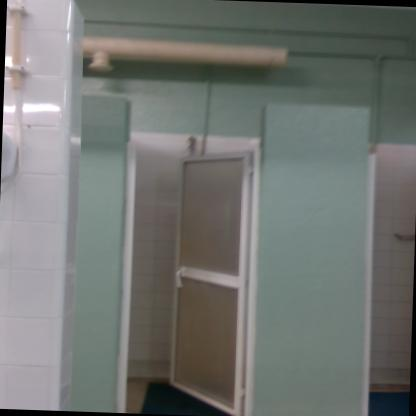open: (78, 106, 282, 416)
